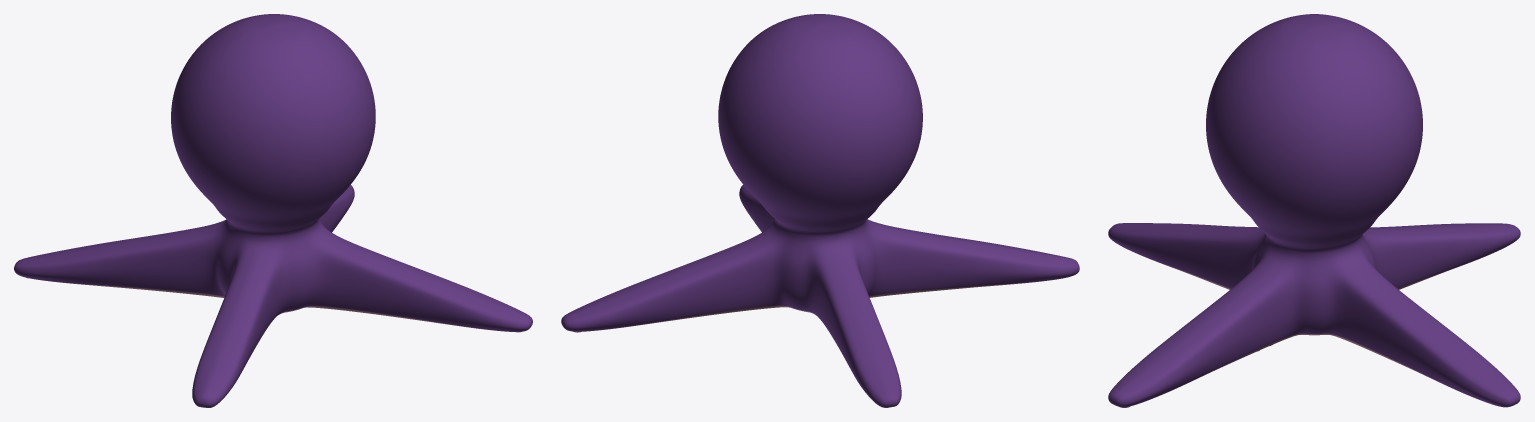
The model's file is Polvo.fbx.
3 views of the same model, side by side, from view 1: azimuth 30°, elevation 25°; view 2: azimuth 150°, elevation 25°; view 3: azimuth 270°, elevation 25° (orthographic). The views are drawn at different scales.
Visible parts, largest first — view 1: Sphere; view 2: Sphere; view 3: Sphere.
Boxes of the visible parts, <box> form: Sphere: <box>14,14,532,407</box>; Sphere: <box>561,14,1079,407</box>; Sphere: <box>1108,14,1520,407</box>.
Bounding box in the file's own units: 475 × 377 × 471.
